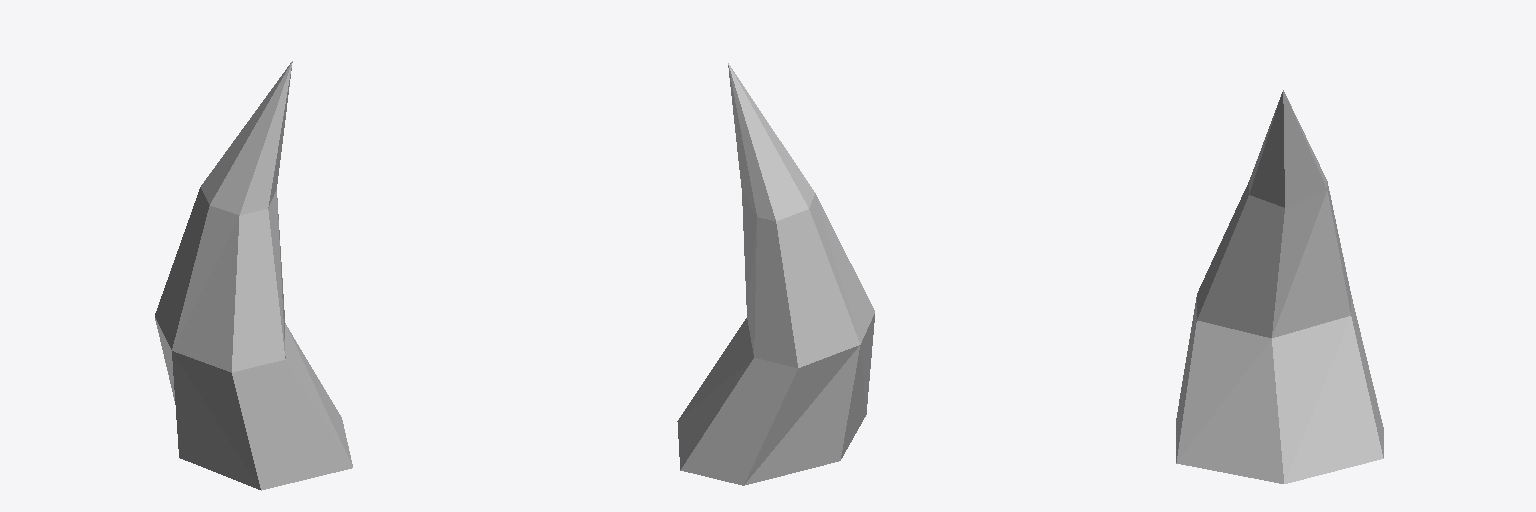
File: fang2.obj
3 renders of one model, left to right at view 1: azimuth 30°, elevation 25°; view 2: azimuth 150°, elevation 25°; view 3: azimuth 270°, elevation 25°, orthographic.
Parts seen in each view (by area): view 1: pasted__smallfang group; view 2: pasted__smallfang group; view 3: pasted__smallfang group.
Boxes of the visible parts, x1,y1,x2,y2 form: pasted__smallfang group: [155, 61, 352, 490]; pasted__smallfang group: [677, 63, 874, 485]; pasted__smallfang group: [1176, 90, 1383, 483].
Bounding box in the file's own units: 9.72 × 19.49 × 9.88.